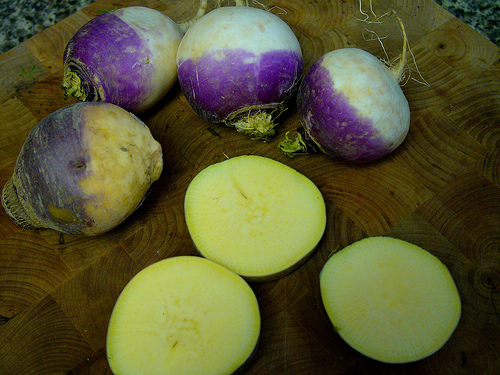turnip: (0, 95, 168, 239), (103, 253, 262, 373), (284, 21, 411, 167), (319, 236, 462, 365), (175, 5, 306, 140), (62, 6, 188, 111)
